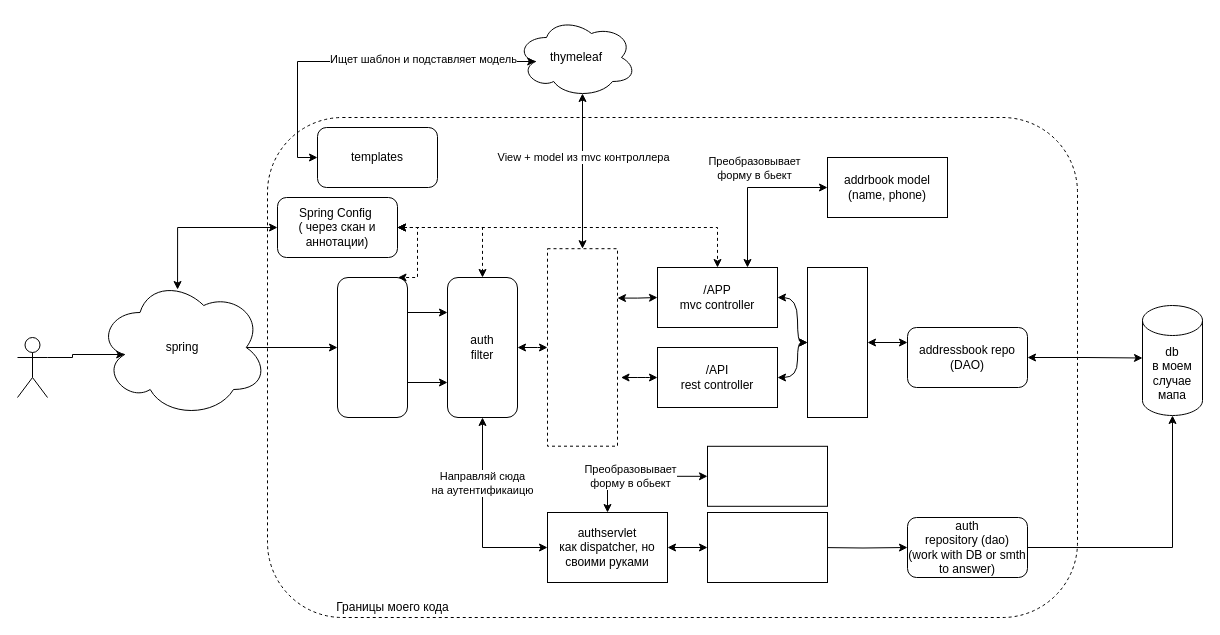
This 1220x635 diagram has some shape labels left out. Here are the shapes that lost their labels. From the top down, the centre of each, then its label:
At (x=372, y=347): "log filter".
At (x=582, y=347): "Servlet dispatcher (создаётся автоматом)".
At (x=837, y=342): "AddressBookService Вся бизнеслогика тут".
At (x=32, y=367): "Actor".
At (x=767, y=475): "authModel ( username, password)".
At (x=767, y=547): "authService аутентификация".
